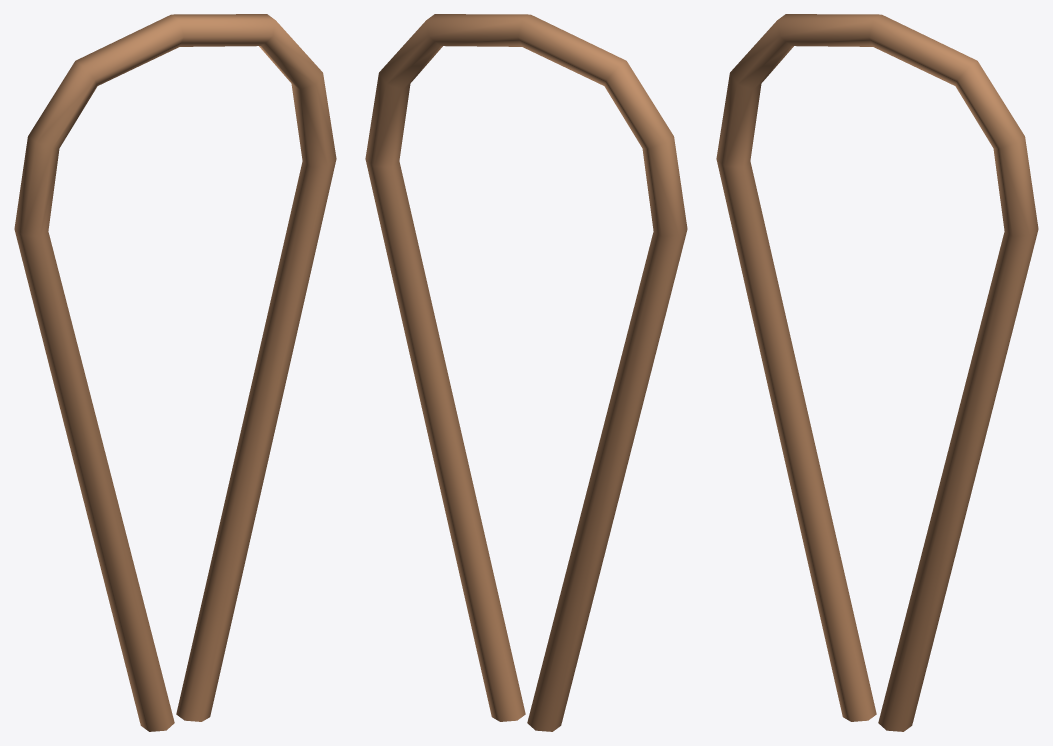
File: HangingRope2.fbx
3 views of the same model, side by side, from view 1: azimuth 30°, elevation 25°; view 2: azimuth 150°, elevation 25°; view 3: azimuth 330°, elevation 25° (orthographic).
Parts seen in each view (by area): view 1: HangingRope2; view 2: HangingRope2; view 3: HangingRope2.
Part boxes in pixels (x1=…): HangingRope2: x1=14, y1=14, x2=336, y2=731; HangingRope2: x1=365, y1=14, x2=687, y2=731; HangingRope2: x1=716, y1=14, x2=1038, y2=731.
Size of the model in its own units: 7.44 by 15.95 by 0.7.
